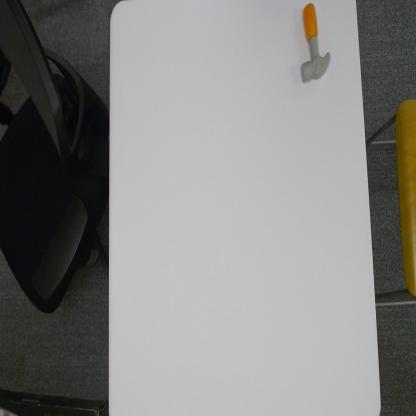Hammer: (300, 2, 331, 84)
